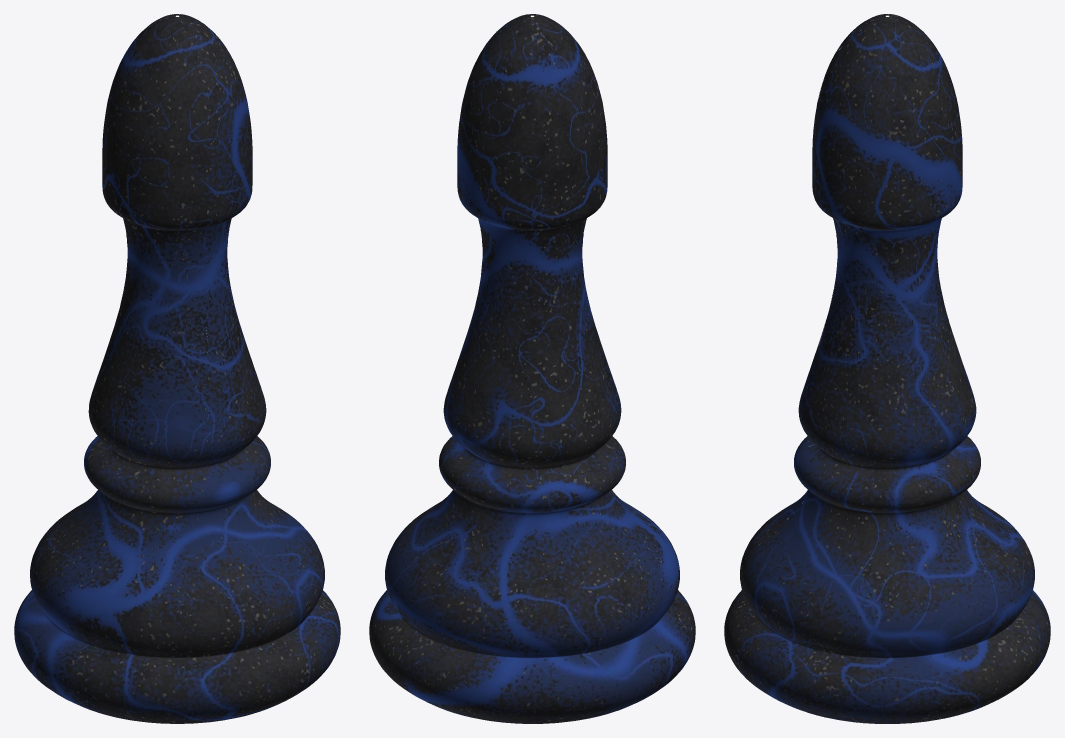
The model's file is queen-black-hd.glb.
3 renders of one model, left to right at view 1: azimuth 30°, elevation 25°; view 2: azimuth 150°, elevation 25°; view 3: azimuth 270°, elevation 25°, orthographic.
Visible parts, largest first — view 1: Cobalt Vein black queen; view 2: Cobalt Vein black queen; view 3: Cobalt Vein black queen.
Boxes of the visible parts, box(x1,y1,x2,y2) form: Cobalt Vein black queen: box(14, 14, 340, 723); Cobalt Vein black queen: box(369, 14, 695, 723); Cobalt Vein black queen: box(724, 14, 1050, 723).
Size of the model in its own units: 0.6285 by 1.39 by 0.6288.
1 material, 1 textured.
